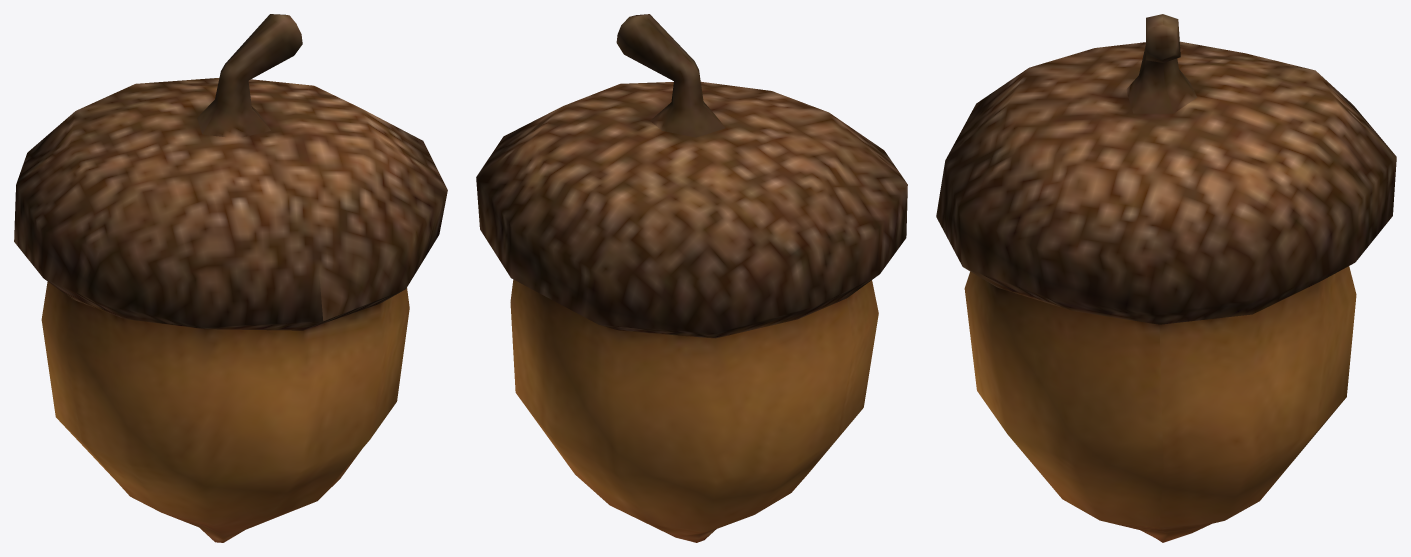
Rendered from semilla_sillas.glb.
3 views of the same model, side by side, from view 1: azimuth 30°, elevation 25°; view 2: azimuth 150°, elevation 25°; view 3: azimuth 270°, elevation 25° (orthographic). The views are drawn at different scales.
Visible parts, largest first — view 1: semilla_sillas; view 2: semilla_sillas; view 3: semilla_sillas.
Boxes of the visible parts, <box> form: semilla_sillas: <box>14,14,447,542</box>; semilla_sillas: <box>476,14,907,542</box>; semilla_sillas: <box>936,14,1396,542</box>.
Bounding box in the file's own units: 0.1043 × 0.135 × 0.1014.
1 material, 1 textured.
